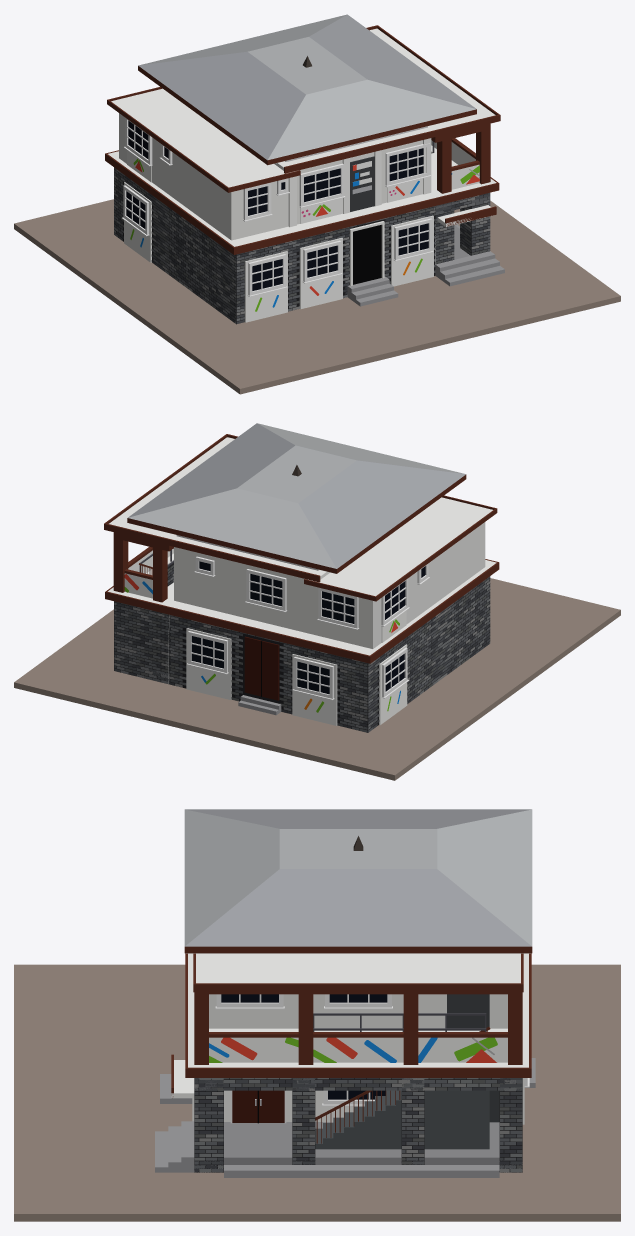
Rendered from tjkt.glb.
3 views of the same model, one above another, from view 1: azimuth 30°, elevation 25°; view 2: azimuth 150°, elevation 25°; view 3: azimuth 270°, elevation 25° (orthographic). The views are drawn at different scales.
Parts seen in each view (by area): view 1: gedung_lowpoly_v2; view 2: gedung_lowpoly_v2; view 3: gedung_lowpoly_v2.
Part boxes in pixels (<box>): gedung_lowpoly_v2: <box>14,14,620,394</box>; gedung_lowpoly_v2: <box>14,423,620,780</box>; gedung_lowpoly_v2: <box>14,809,620,1221</box>.
Size of the model in its own units: 18 by 8.9 by 18.5.
